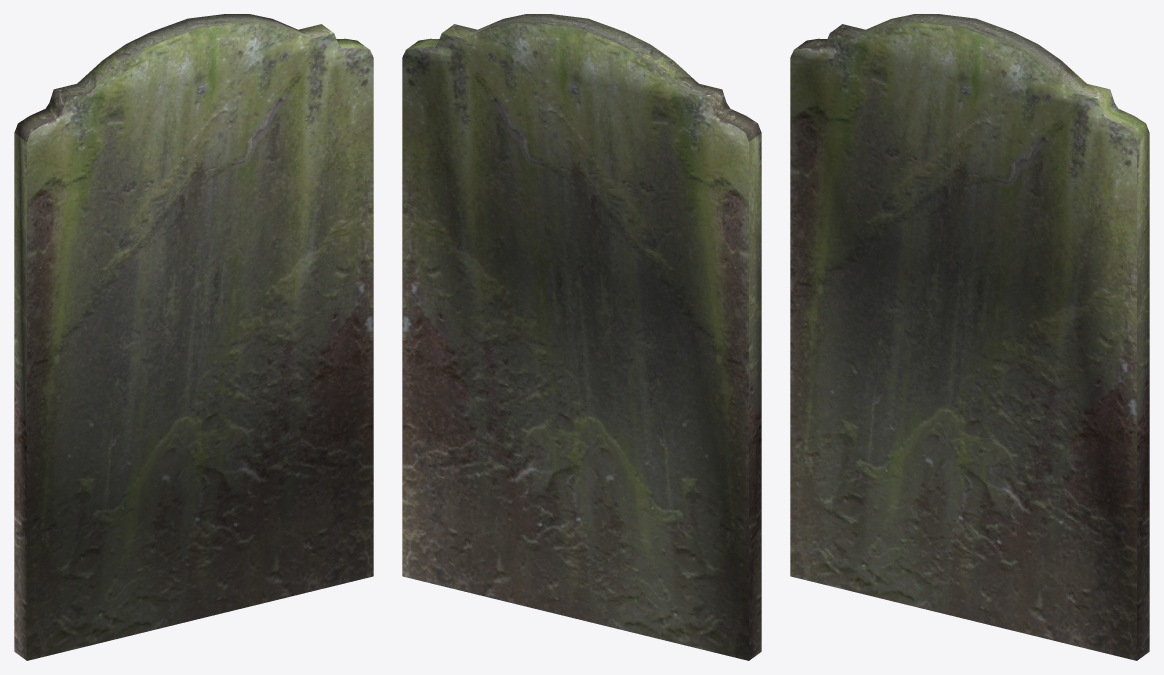
File: gravestoneB.fbx
3 renders of one model, left to right at view 1: azimuth 30°, elevation 25°; view 2: azimuth 150°, elevation 25°; view 3: azimuth 330°, elevation 25°, orthographic.
Visible parts, largest first — view 1: U3DMesh; view 2: U3DMesh; view 3: U3DMesh.
Boxes of the visible parts, box(x1,y1,x2,y2) form: U3DMesh: box(14, 14, 373, 660); U3DMesh: box(402, 14, 761, 660); U3DMesh: box(790, 14, 1149, 660).
Bounding box in the file's own units: 26.71 × 43.52 × 1.69.
